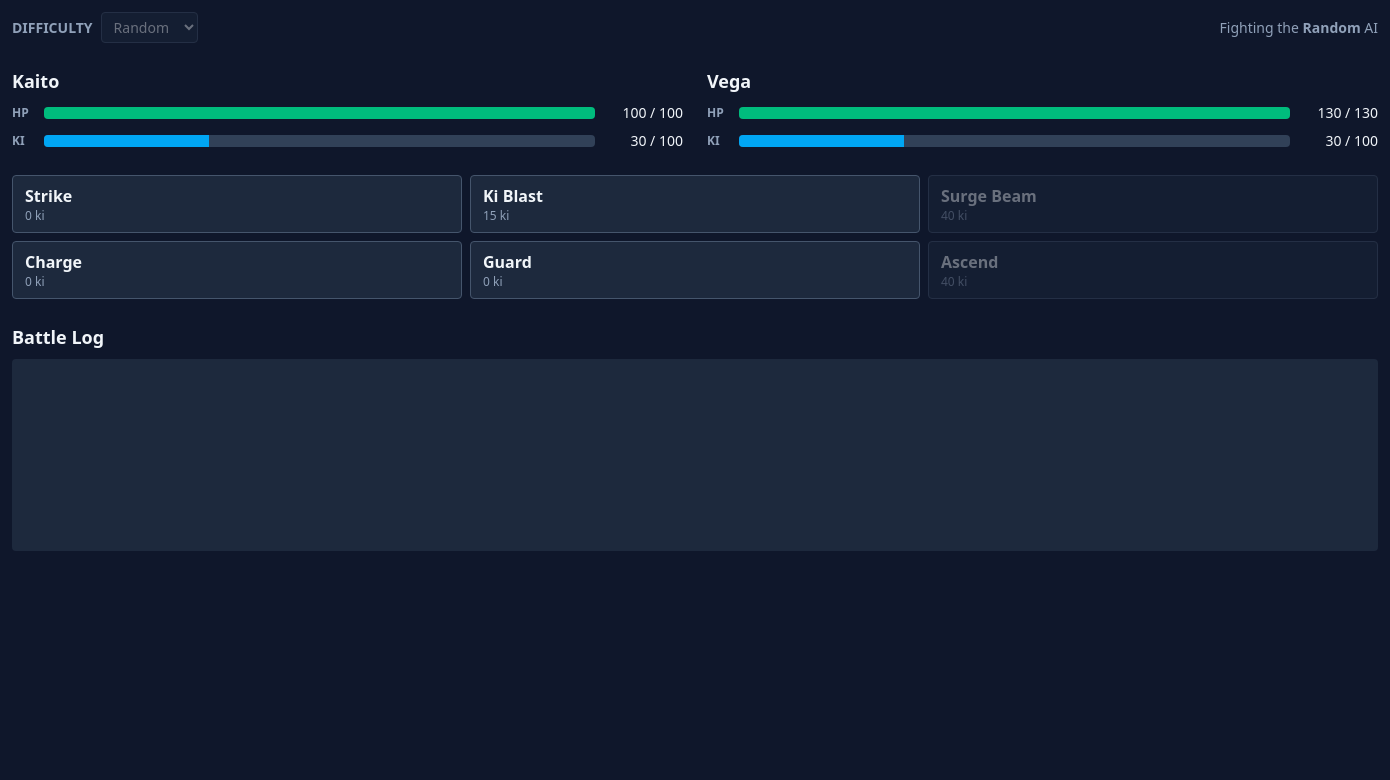
MatchScreen › submits the clicked move and re-renders from the response
The image size is (1390, 780).
Click the button "Strike 0 ki".
click(49, 196)  # box [12,175,462,233]
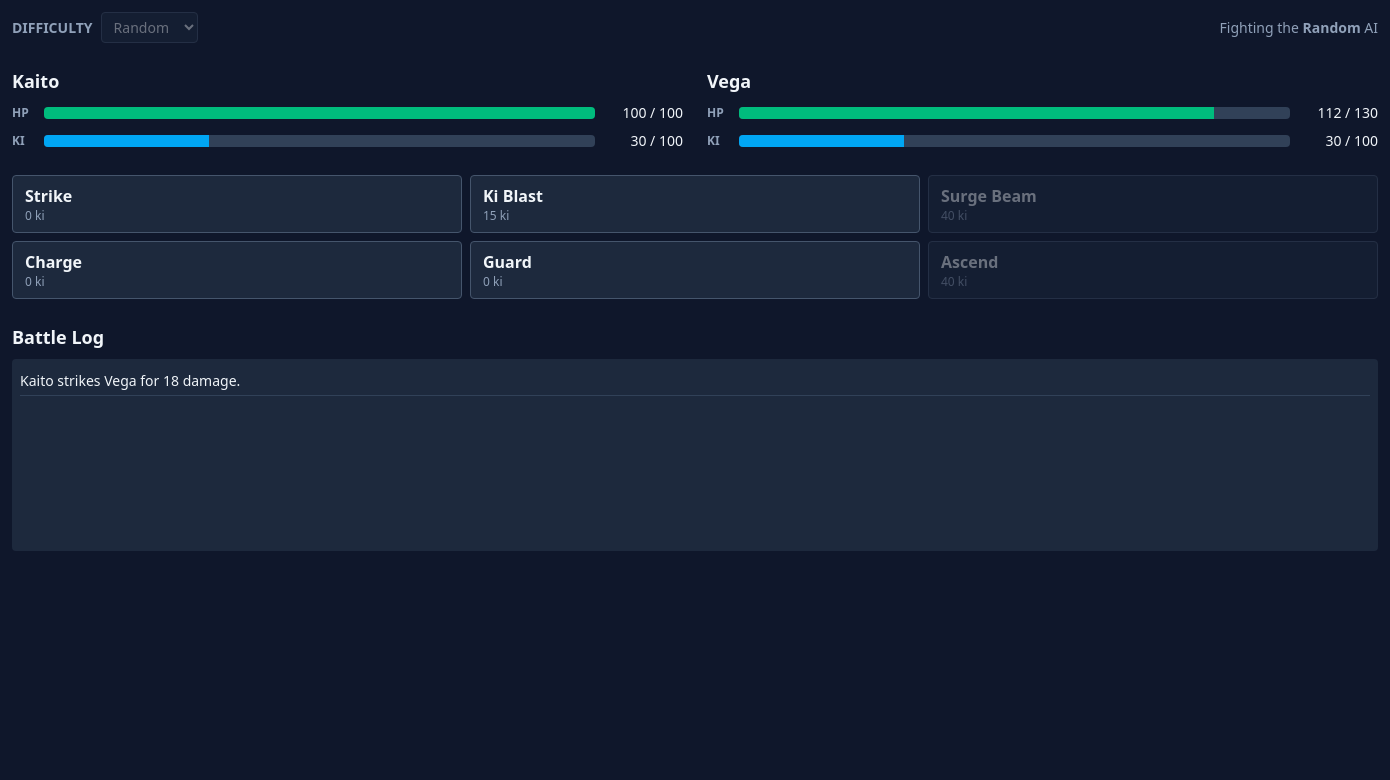
Expected: the list item "Kaito strikes Vega for 18 damage." is shown, [20,367,1370,396]
Expected: the text "112 / 130" is shown, [1317,103,1378,122]
